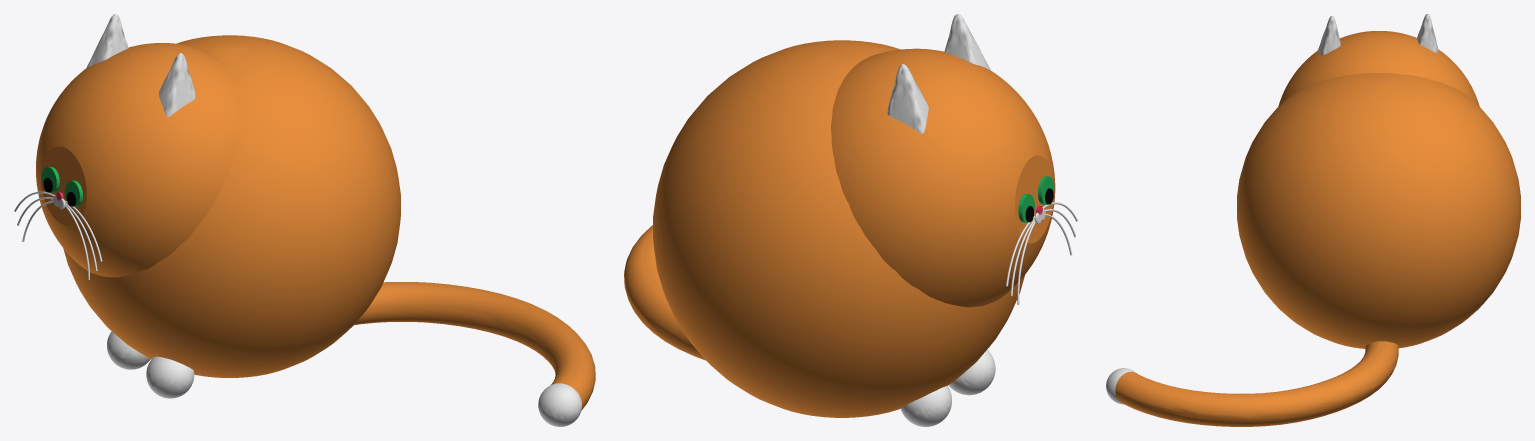
The model's file is GATO.glb.
The picture shows the model from 3 angles, left to right: view 1: azimuth 30°, elevation 25°; view 2: azimuth 150°, elevation 25°; view 3: azimuth 270°, elevation 25°; orthographic projection. The views are drawn at different scales.
Parts seen in each view (by area): view 1: fat cat obj; view 2: fat cat obj; view 3: fat cat obj.
Part boxes in pixels (box(x1,y1,x2,y2)): fat cat obj: box(14, 14, 595, 426); fat cat obj: box(624, 14, 1077, 426); fat cat obj: box(1106, 14, 1520, 426).
Bounding box in the file's own units: 26.58 × 20.15 × 26.16.
